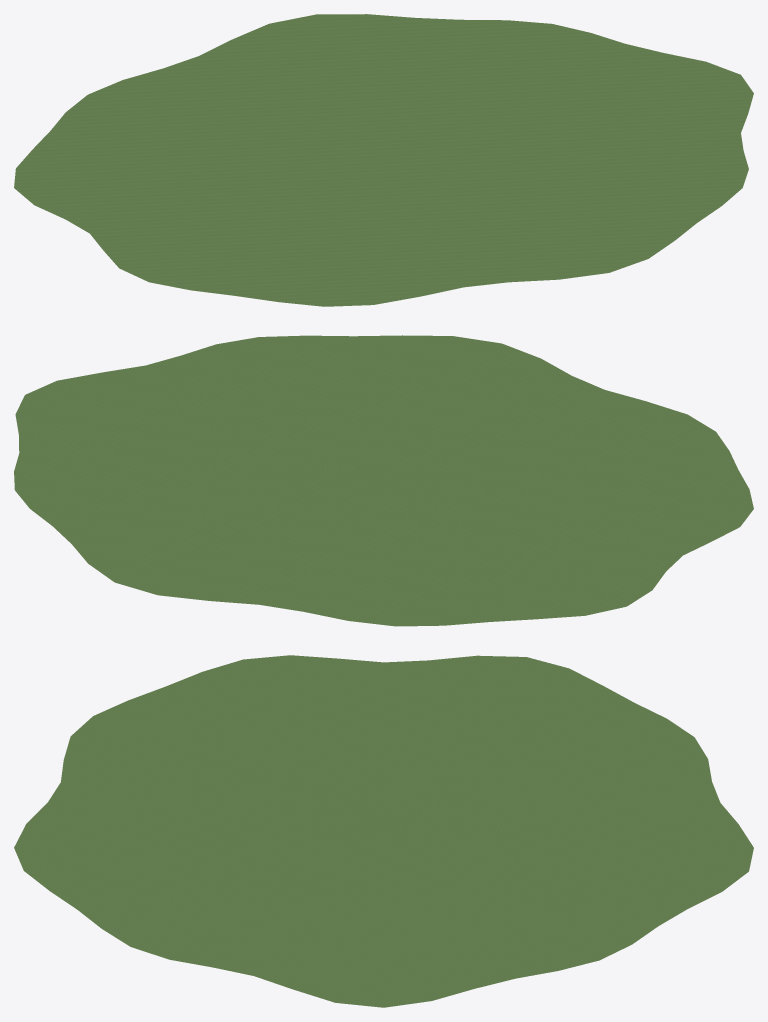
Rendered from Cliff_Lower_Grass.fbx.
3 views of the same model, one above another, from view 1: azimuth 30°, elevation 25°; view 2: azimuth 150°, elevation 25°; view 3: azimuth 270°, elevation 25° (orthographic). The views are drawn at different scales.
Visible parts, largest first — view 1: Cliff_Lower_Grass; view 2: Cliff_Lower_Grass; view 3: Cliff_Lower_Grass.
Boxes of the visible parts, x1,y1,x2,y2 form: Cliff_Lower_Grass: (14, 14, 753, 306); Cliff_Lower_Grass: (14, 335, 753, 626); Cliff_Lower_Grass: (14, 655, 753, 1007).
Size of the model in its own units: 7167 by 6356 by 0.
